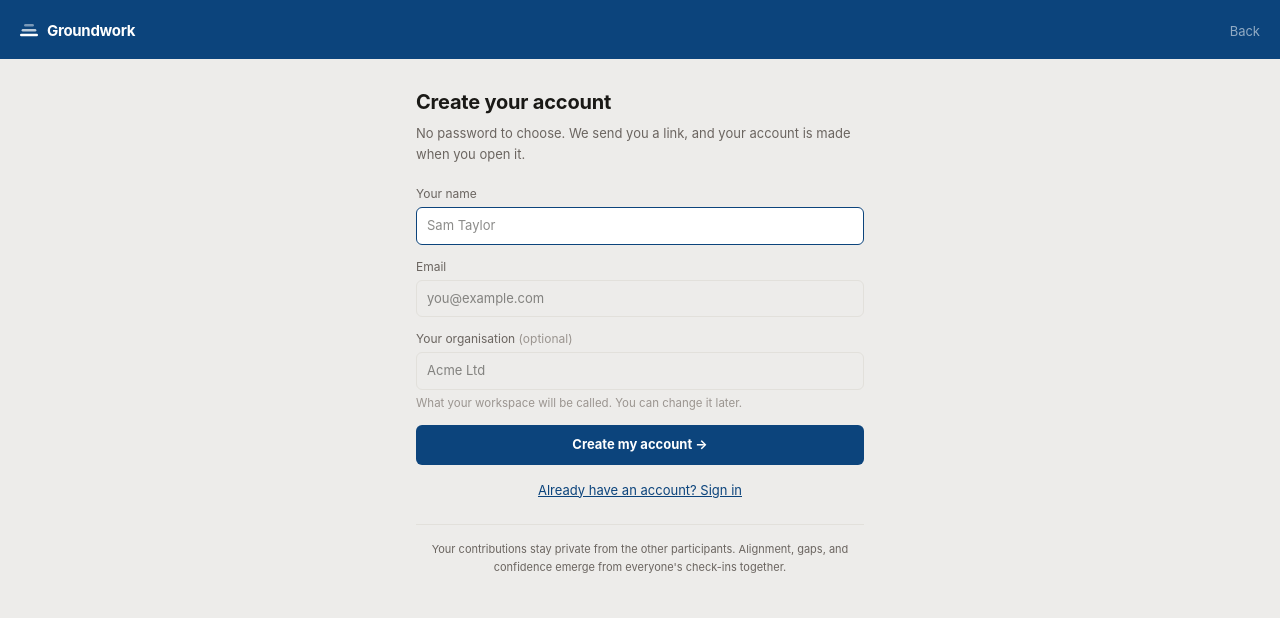
a failure is not a success › a server error says so, instead of sending them to wait for an email
Step 1. Type "sam@acme.test" into the field labelled "Email" → (640, 299), box [416,280,864,317]
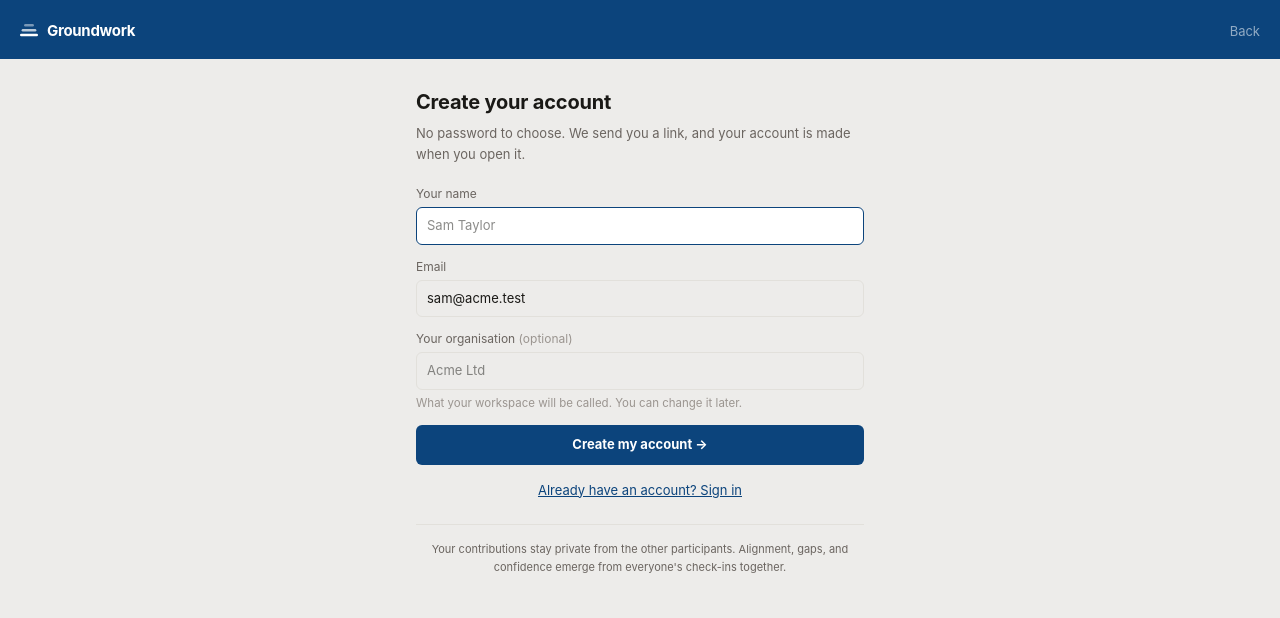
Step 2. Click the button "Create my account →" → (640, 445), box [416,425,864,465]
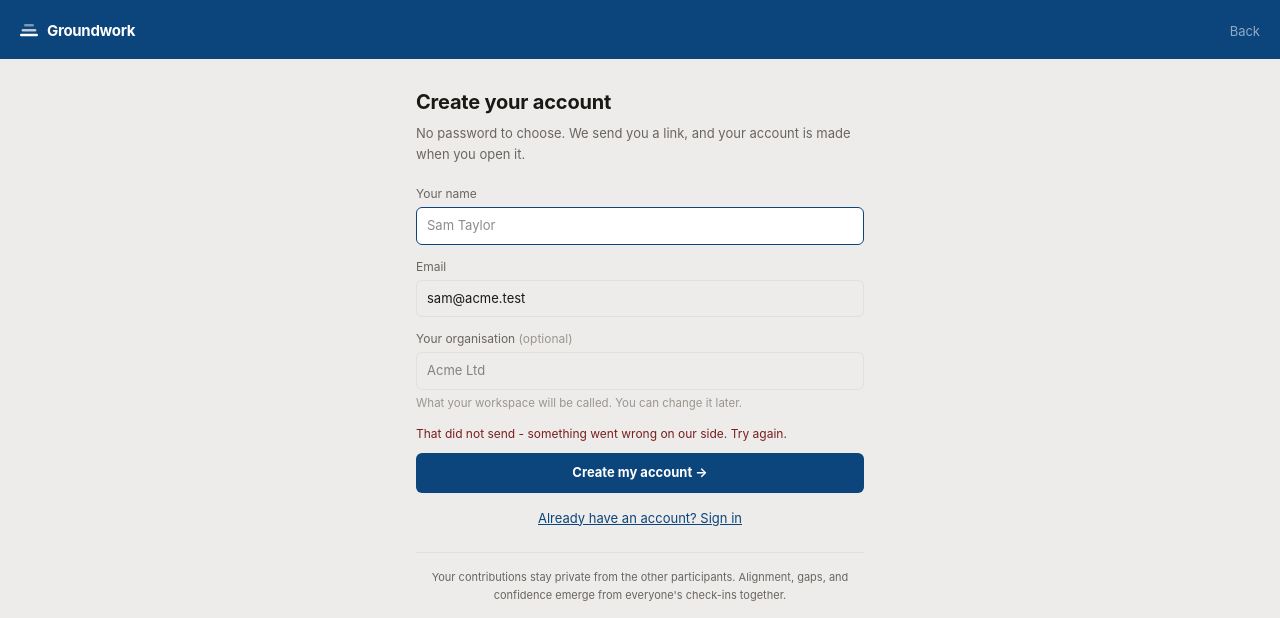
expect the text "did not send" is shown: met, box [416,426,787,441]
